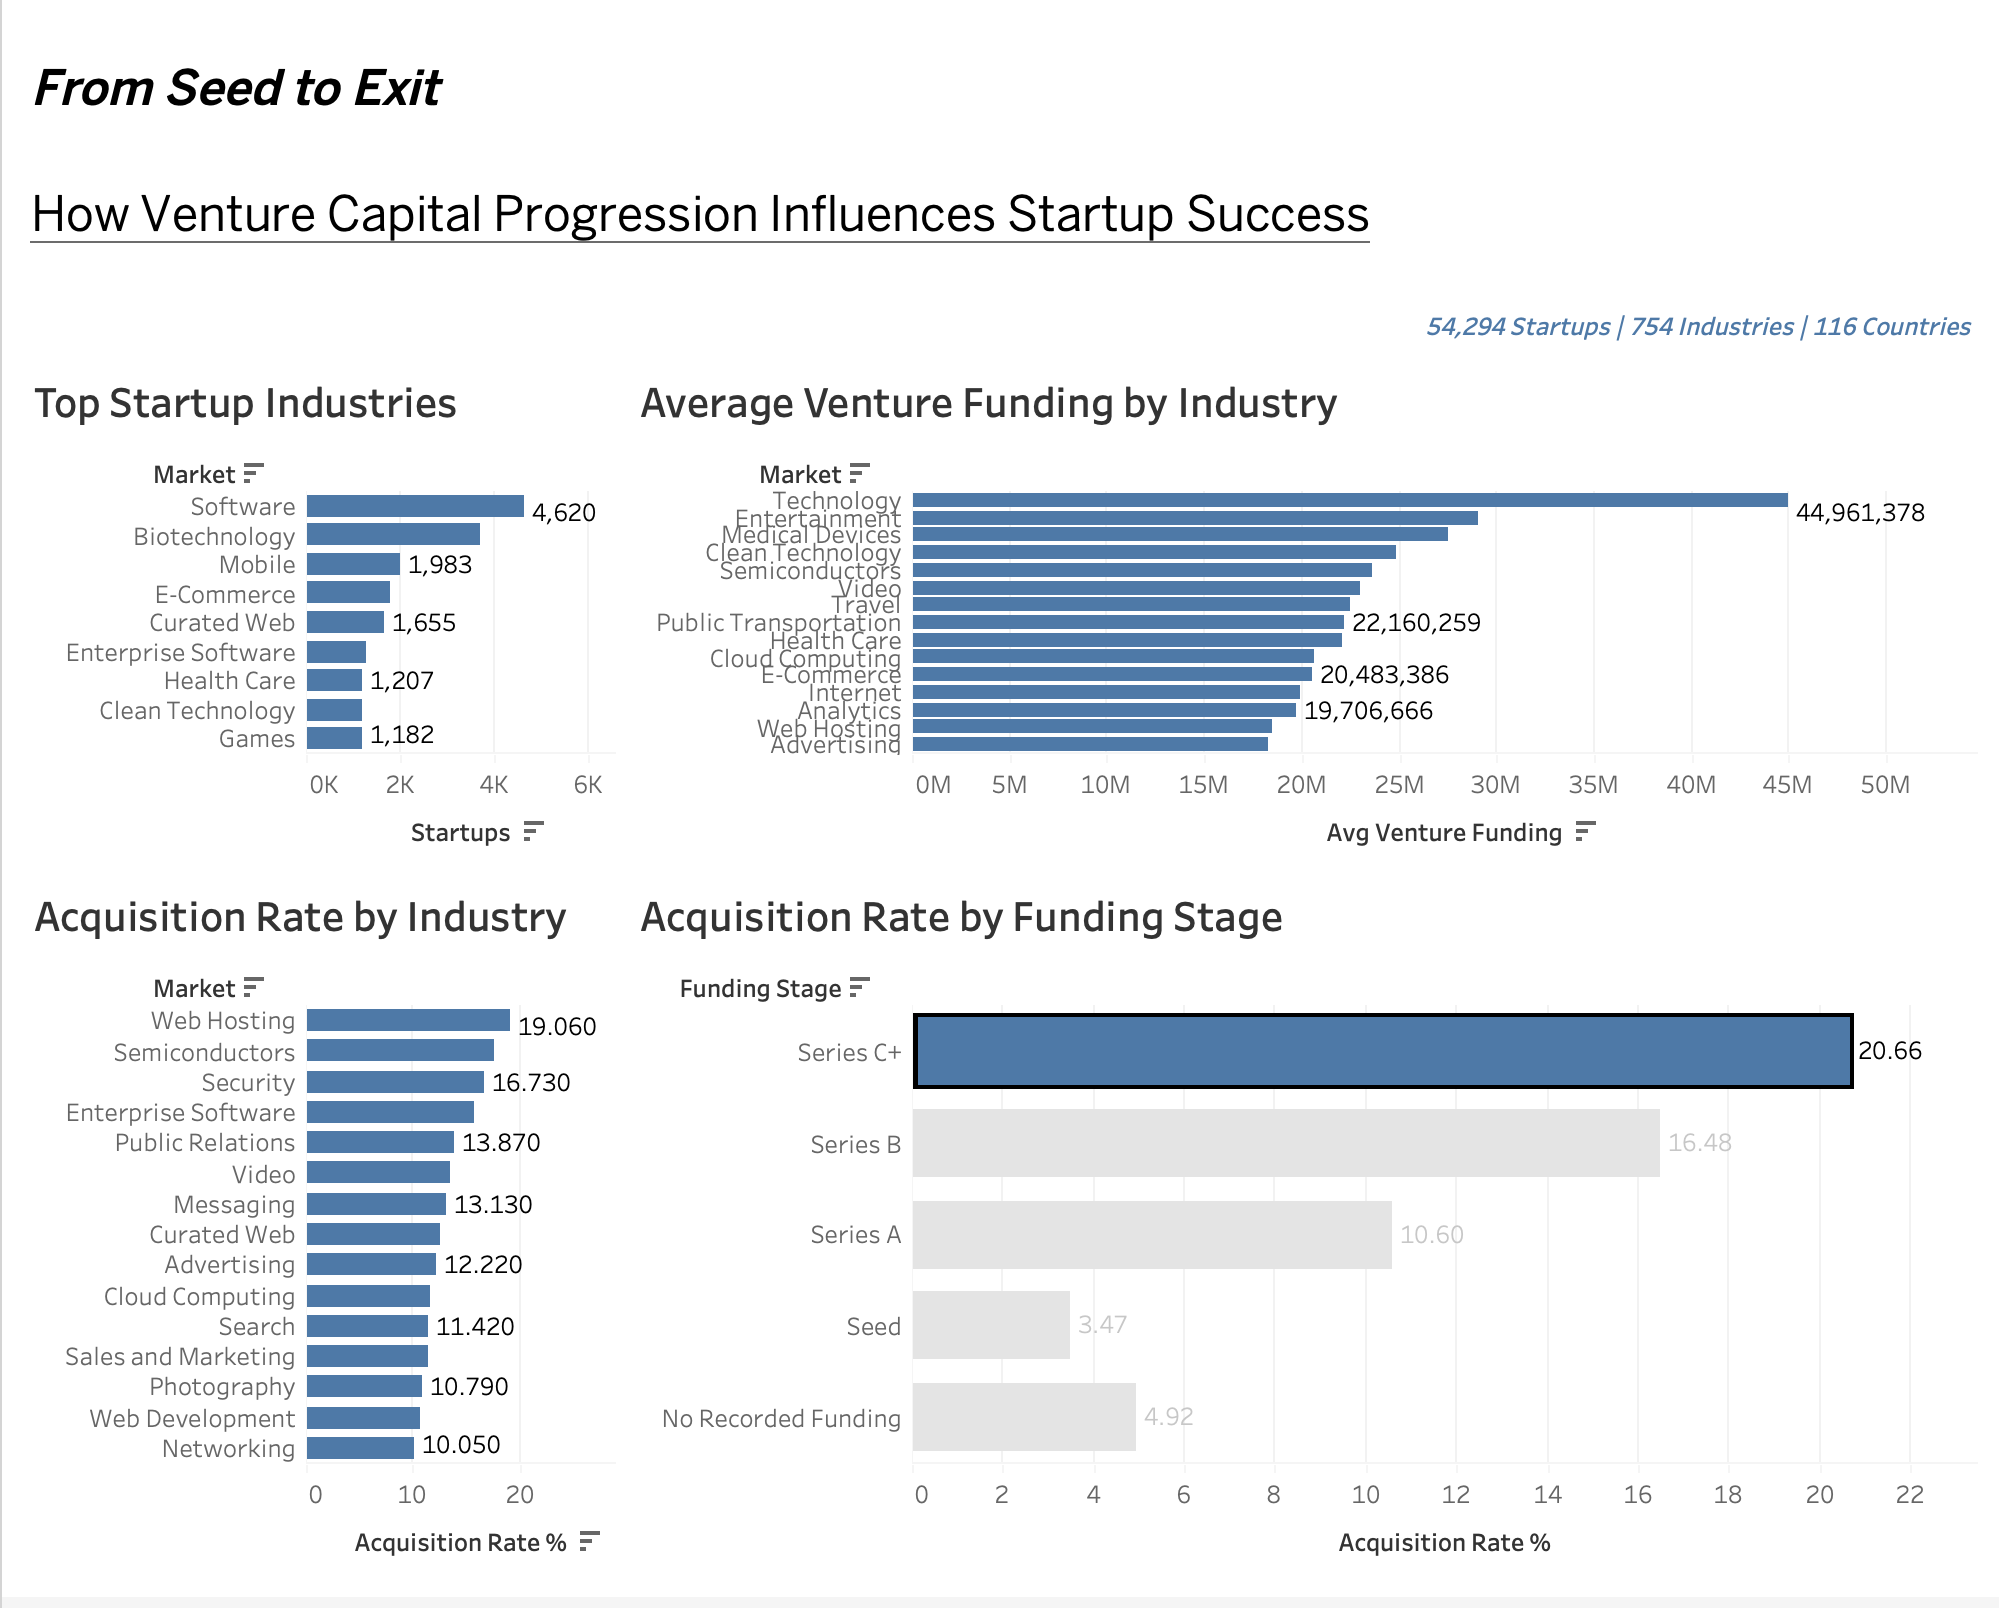

The page's visual inventory and layout, read from the dashboard file:
{"tool":"tableau","page":{"name":"Dashboard 1","canvas":[1000,800],"ordinal":0},"visuals":[{"type":"title","box":[8,8,984,140]},{"type":"text","box":[8,148,984,32]},{"type":"worksheet","title":"Sheet 2","mark":"Automatic","rows":["market"],"cols":["startups"],"box":[8,180,303,257.4]},{"type":"worksheet","title":"Sheet 5","mark":"Automatic","rows":["market"],"cols":["avg_venture_funding"],"box":[311,180,681,257]},{"type":"worksheet","title":"Sheet 4","mark":"Automatic","rows":["funding_stage"],"cols":["acquisition_rate"],"box":[311,437,681,355]},{"type":"worksheet","title":"Sheet 1","mark":"Automatic","rows":["market"],"cols":["acquisition_rate"],"box":[8,437.4,303,354.6]}]}

Visuals, with their boxes in screenshot pixels (x1, y1, x2, y2), scaled from the page's 1000x800 canvas onto the 1999x1608 screenshot:
title: bbox=[16, 16, 1983, 297]
text: bbox=[16, 297, 1983, 362]
"Sheet 2" worksheet: bbox=[16, 362, 622, 879]
"Sheet 5" worksheet: bbox=[622, 362, 1983, 878]
"Sheet 4" worksheet: bbox=[622, 878, 1983, 1592]
"Sheet 1" worksheet: bbox=[16, 879, 622, 1592]
